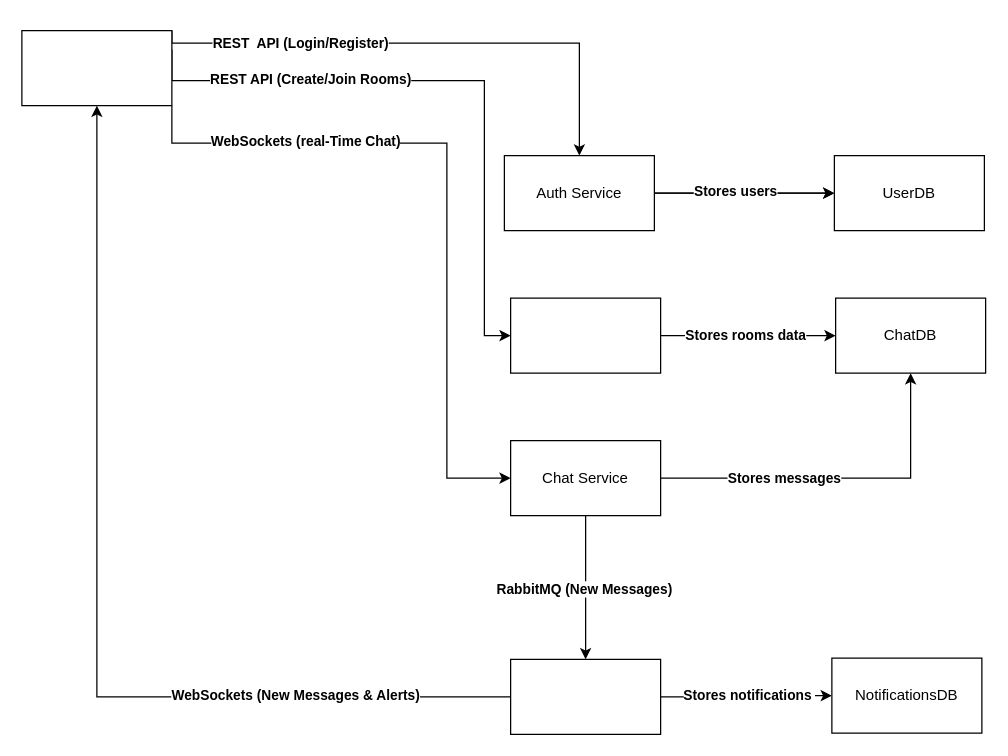
Some shapes in this 1008 by 756 pixel diagram are drawn without their labels. Each missing label, with the centre of its shape:
Frontend: the point at 96,67
Notification Service: the point at 585,696
Room Service: the point at 585,335
